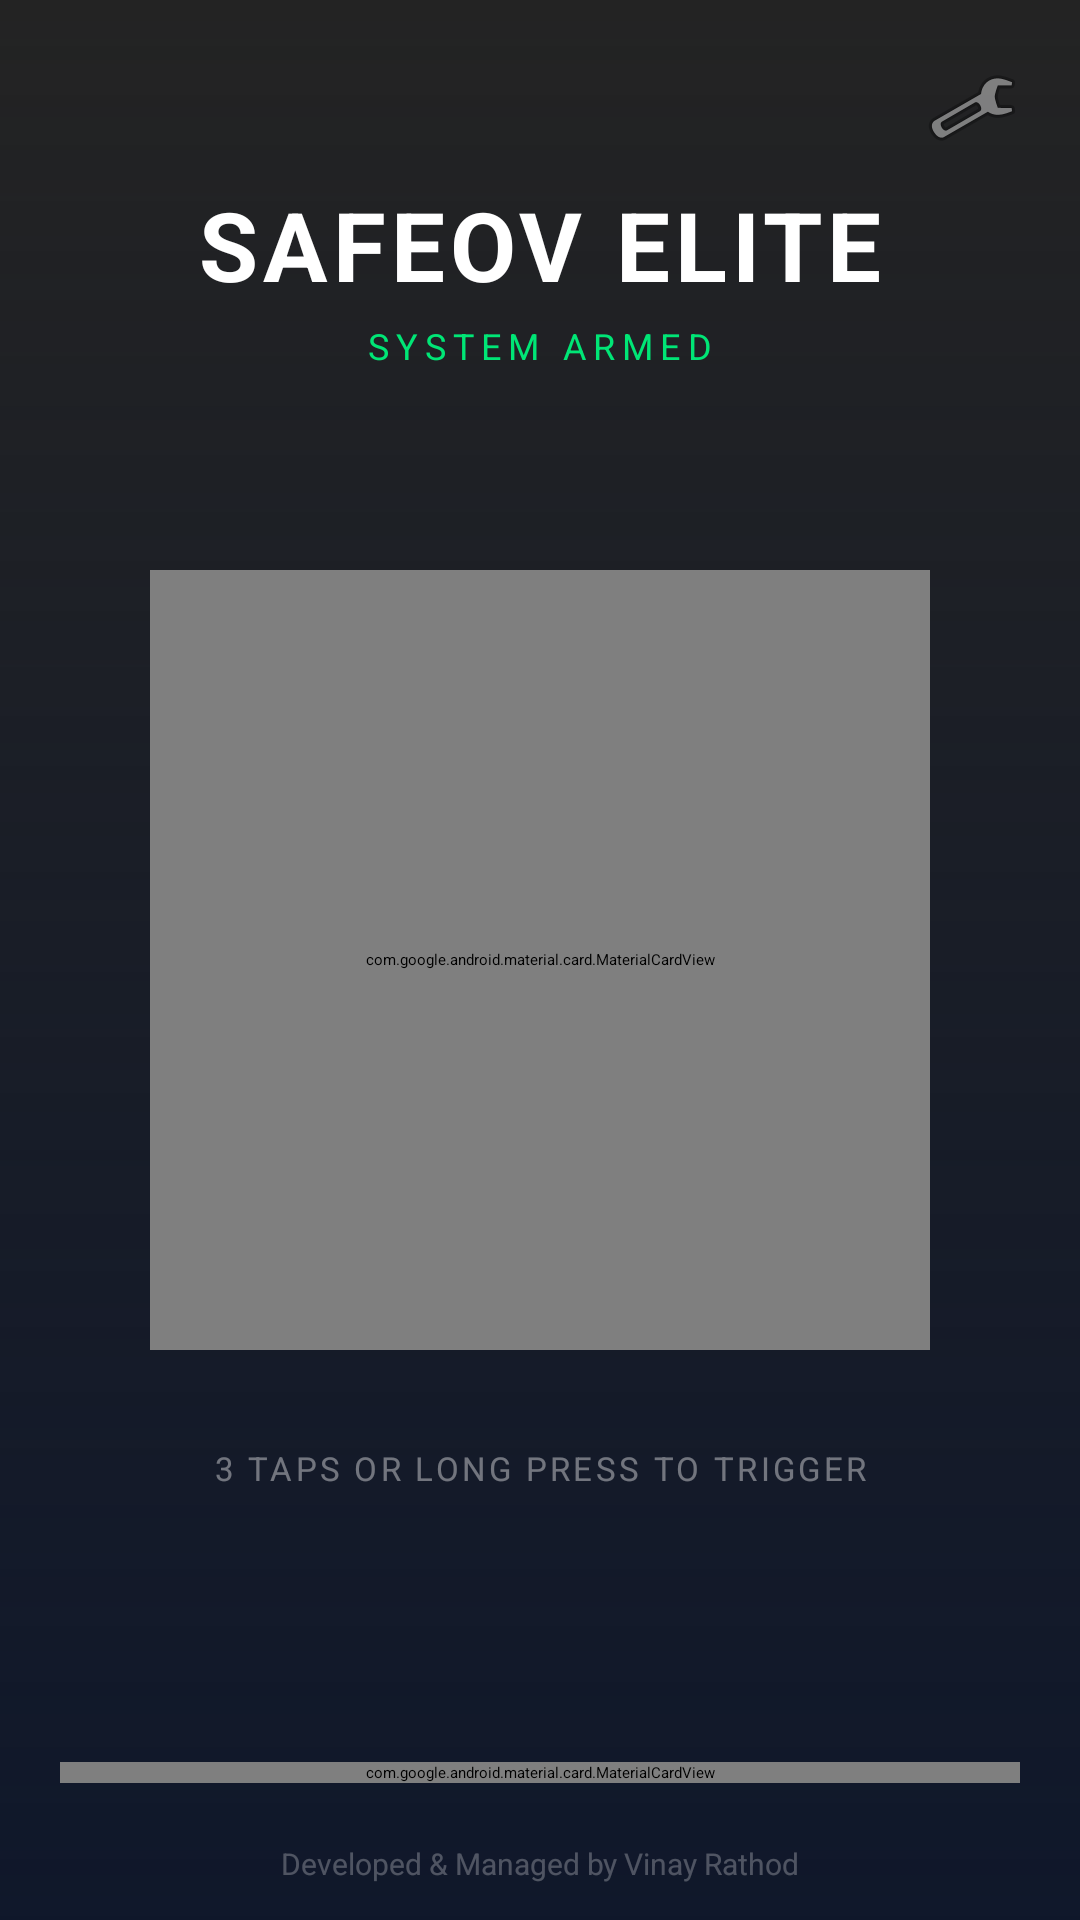

Where to tap for icons on this 1080w x 1920h app screen, as (x=x, y=y):
preferences: (x=972, y=108)
